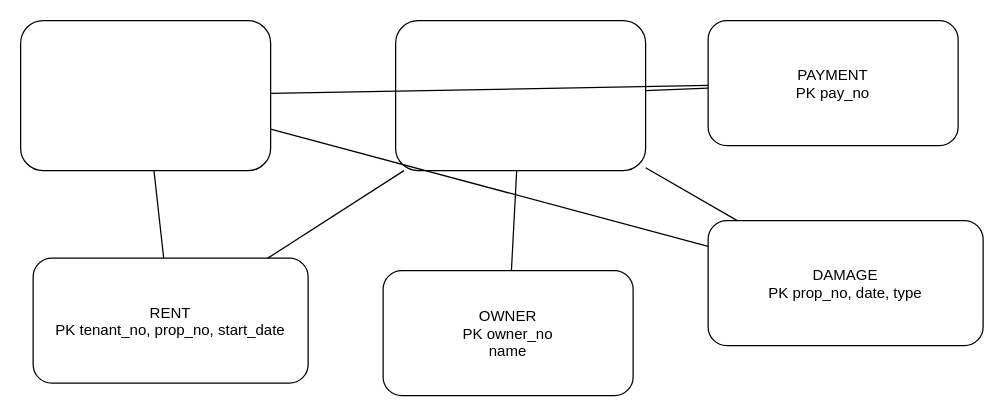
Image size: 1004x416. Some labels were removed from this diagram. Here are the shapes that lost their labels. From the top down, the centre of each, then its label:
At (145,95): "TENANT PK tenant_no name, address, phone".
At (520,95): "PROPERTY PK prop_no address, value".
